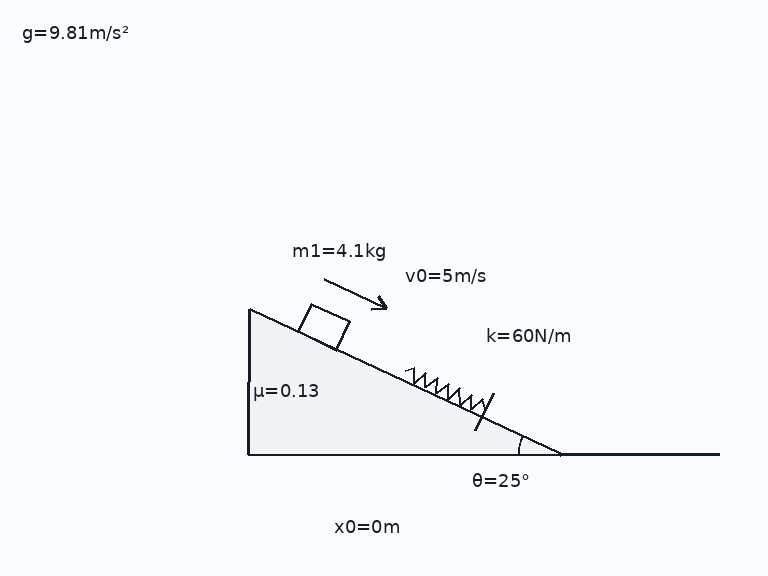block: (297, 302, 351, 351)
ramp: (247, 306, 561, 455)
spring: (403, 365, 487, 412)
